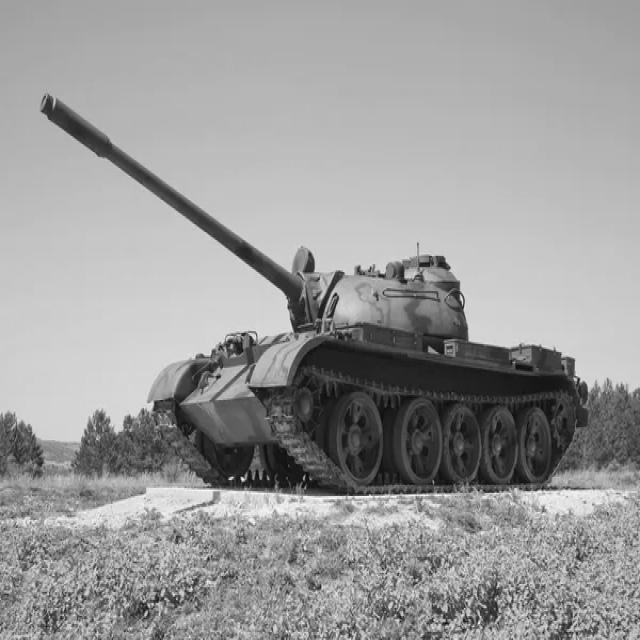Tank: (39, 84, 593, 496)
